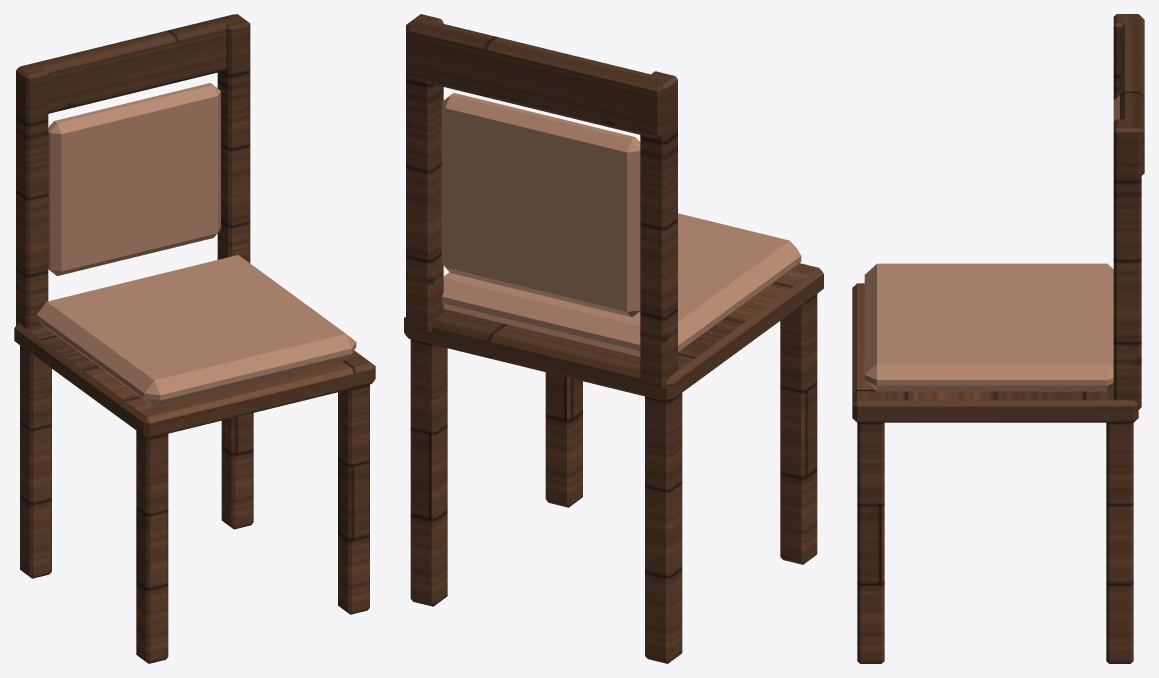
Rendered from chair.glb.
3 renders of one model, left to right at view 1: azimuth 30°, elevation 25°; view 2: azimuth 150°, elevation 25°; view 3: azimuth 270°, elevation 25°, orthographic. The views are drawn at different scales.
Parts seen in each view (by area): view 1: chair_dkwood, chair_leather; view 2: chair_dkwood, chair_leather; view 3: chair_dkwood, chair_leather.
Boxes of the visible parts, left/top/right/bottom form: chair_dkwood: left=14, top=14, right=375, bottom=663; chair_leather: left=36, top=83, right=356, bottom=406; chair_dkwood: left=404, top=14, right=823, bottom=663; chair_leather: left=441, top=93, right=801, bottom=356; chair_dkwood: left=852, top=14, right=1144, bottom=663; chair_leather: left=864, top=95, right=1119, bottom=391.
Size of the model in its own units: 0.46 by 0.95 by 0.47.
Materials: 2 (1 with a texture image).
